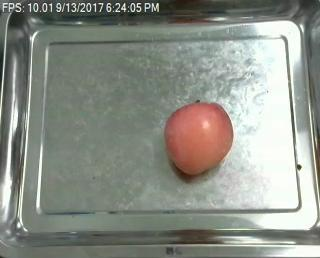apple: (163, 100, 235, 176)
